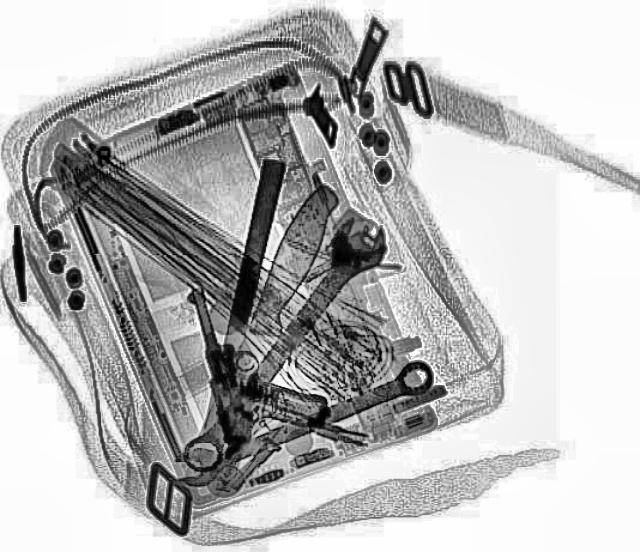Gun: (185, 271, 333, 447)
Knife: (198, 181, 342, 441), (196, 156, 284, 448)
Wrench: (167, 212, 399, 480), (164, 357, 442, 490)
